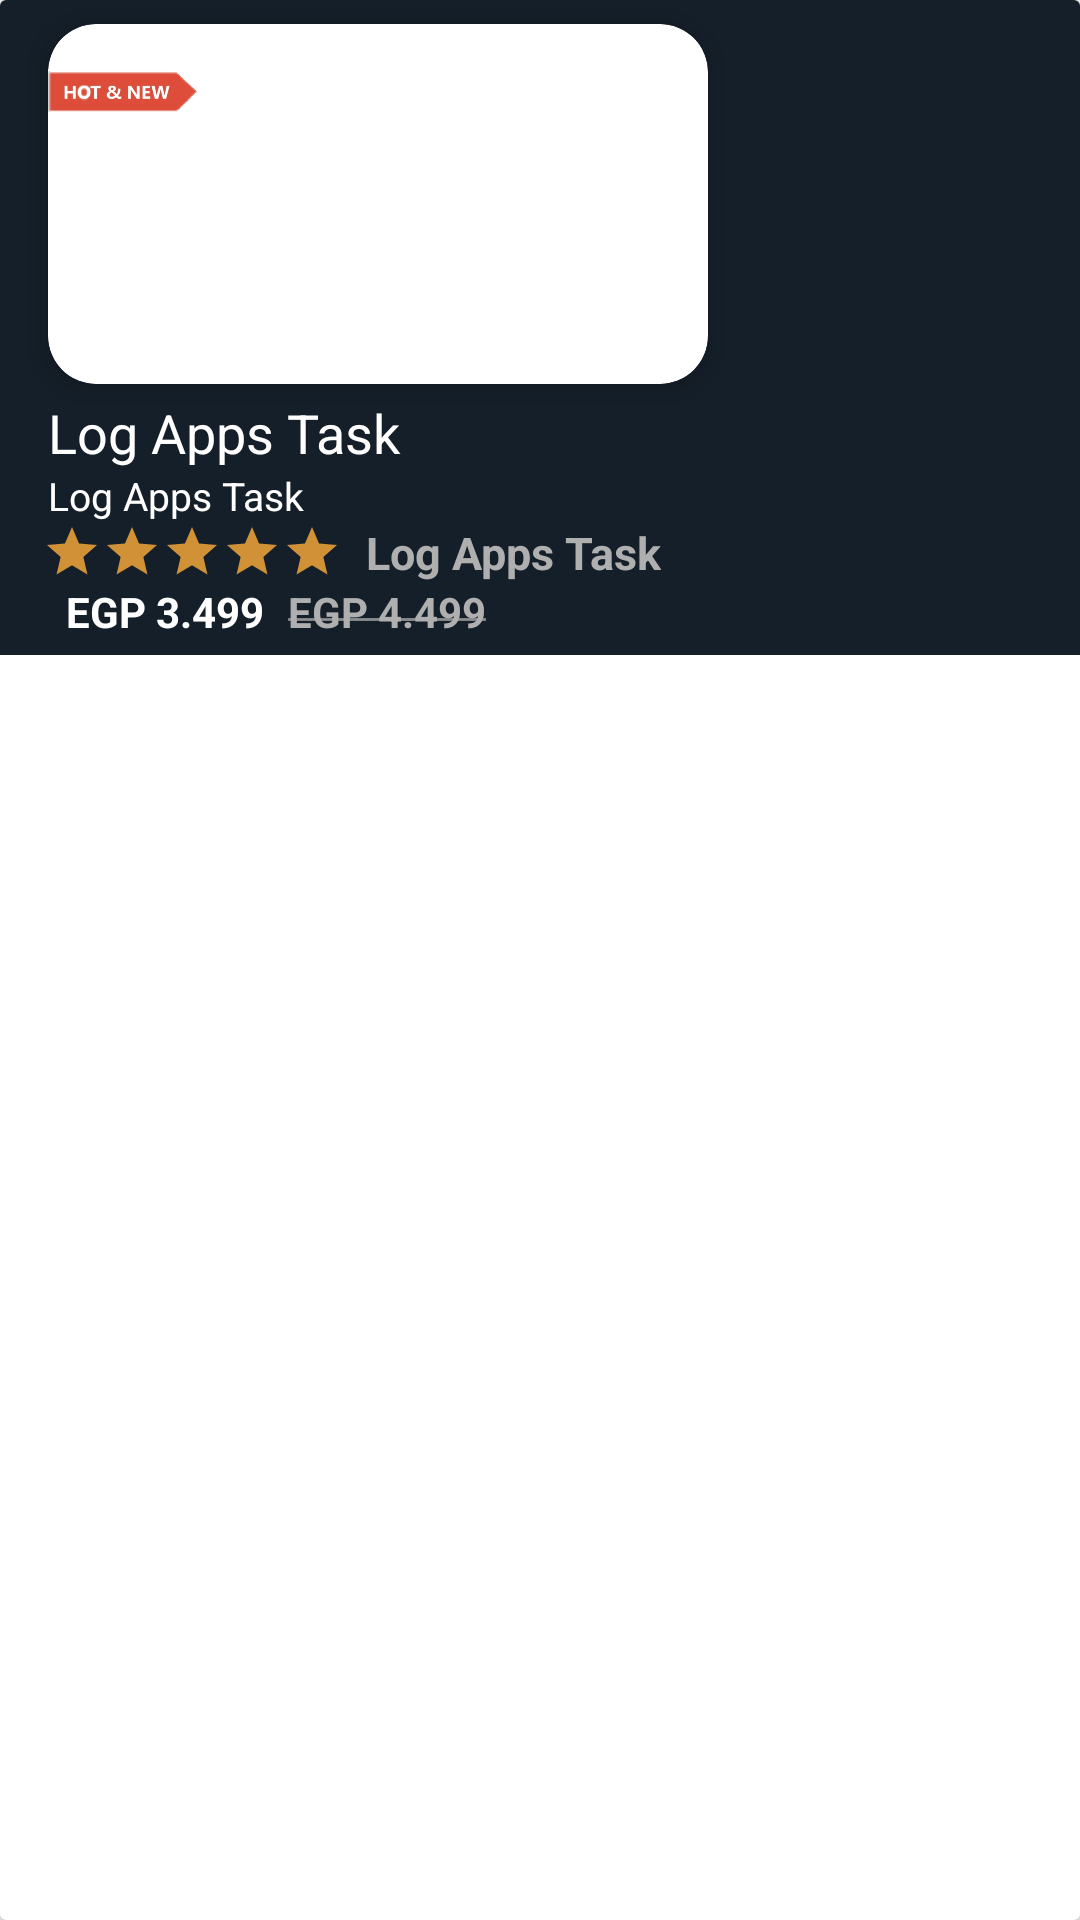

Screen size 1080*1920. Icon name, then its box in pixels as [left=x1, top=y1, right=x2, bottom=y2]:
isstart: [left=47, top=527, right=97, bottom=575], [left=107, top=527, right=157, bottom=575], [left=167, top=527, right=217, bottom=575], [left=227, top=527, right=277, bottom=575], [left=287, top=527, right=337, bottom=575]
